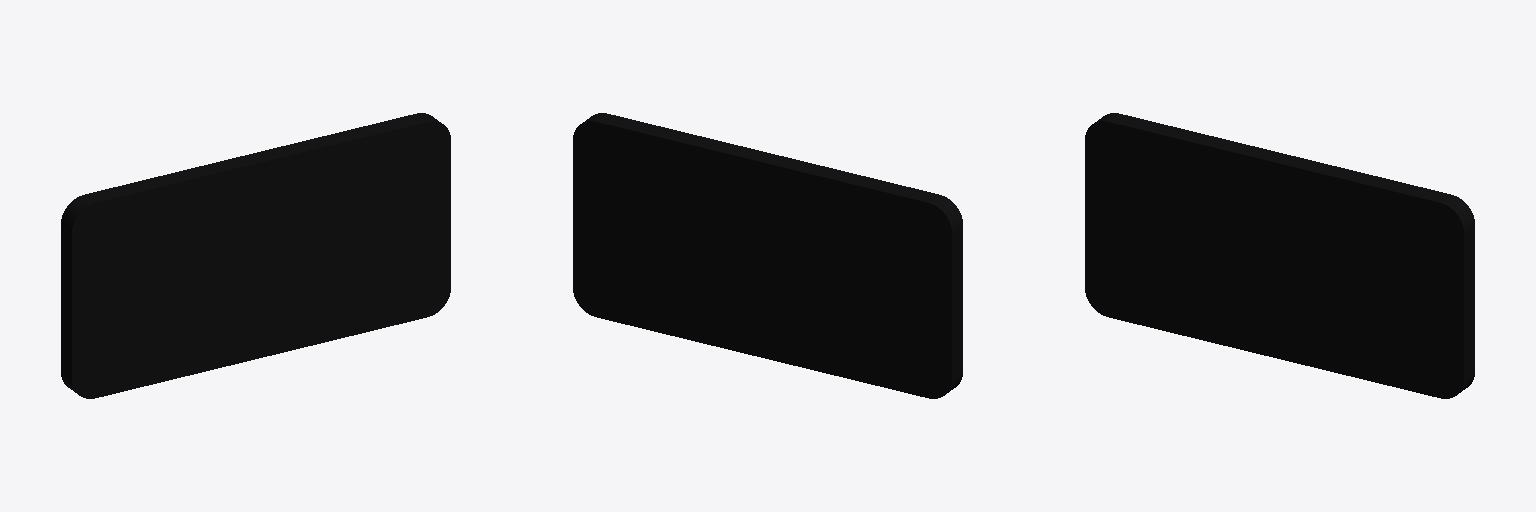
The model's file is RaumklimaApp.obj.
3 renders of one model, left to right at view 1: azimuth 30°, elevation 25°; view 2: azimuth 150°, elevation 25°; view 3: azimuth 330°, elevation 25°, orthographic.
Parts seen in each view (by area): view 1: RaumklimaApp v1; view 2: RaumklimaApp v1; view 3: RaumklimaApp v1.
Boxes of the visible parts, <box> form: RaumklimaApp v1: <box>61,113,450,398</box>; RaumklimaApp v1: <box>573,113,962,398</box>; RaumklimaApp v1: <box>1085,113,1474,398</box>.
Bounding box in the file's own units: 158 × 77.8 × 8.1.